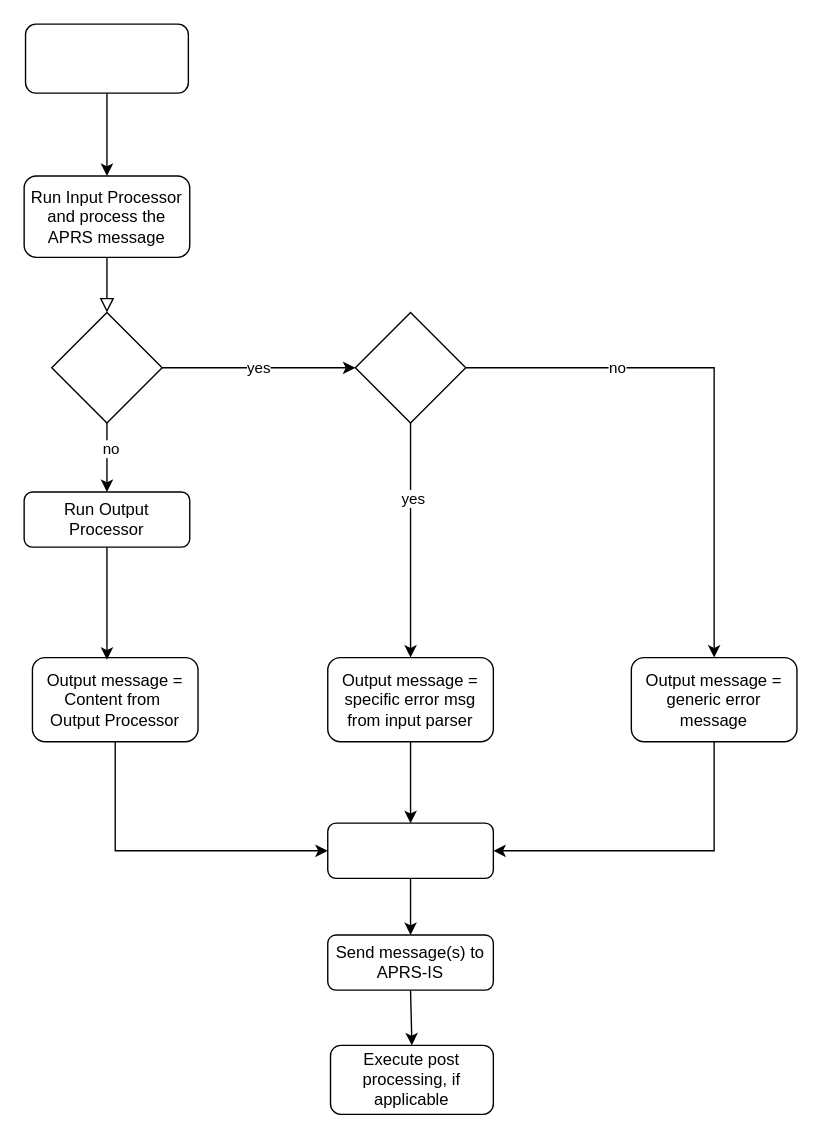
Some shapes in this 821 by 1139 pixel diagram are drawn without their labels. The shapes that lost their labels are listed below. From the top down, each one's centre as x and y in pixels, then its label:
At [106,58]: "Execute pre- processing, if applicable".
At [106,367]: "Error occurred?".
At [410,367]: "input parser specific error?".
At [409,850]: "Generate pretty APRS messages".
